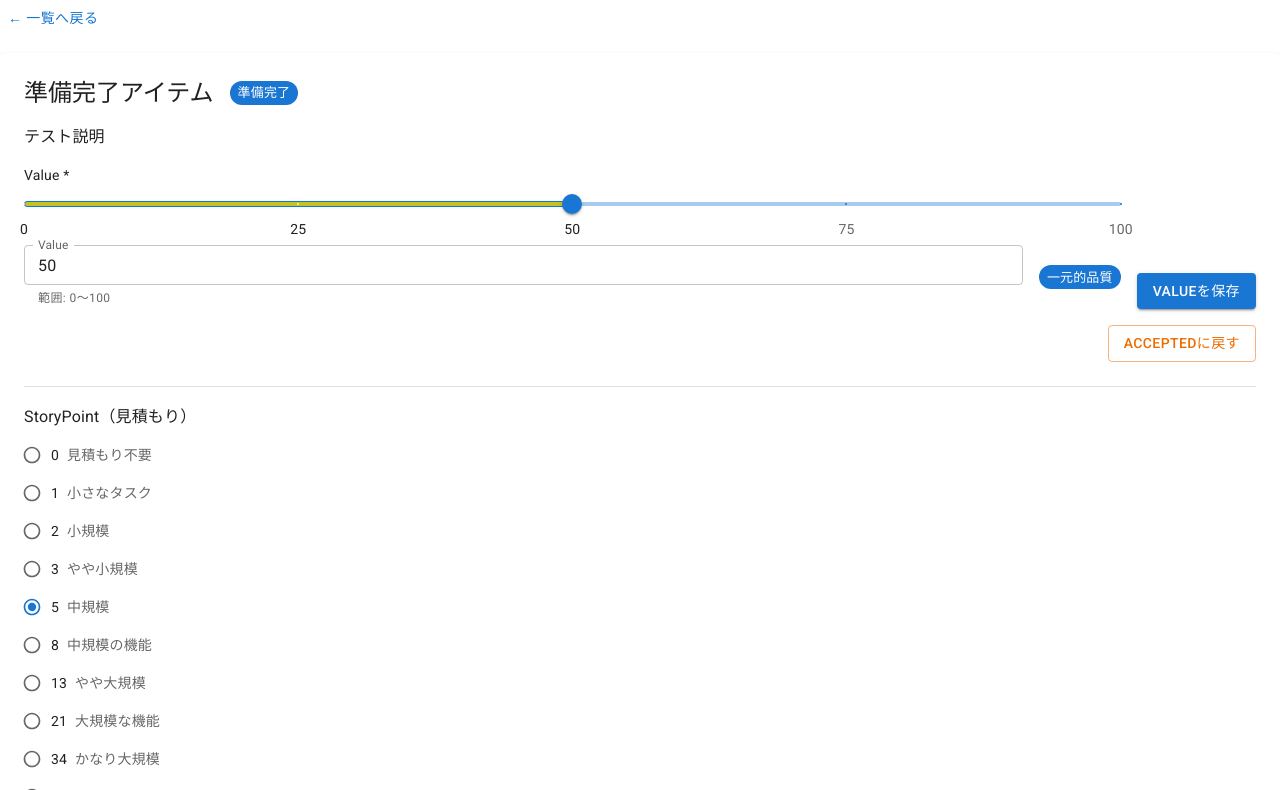
BacklogItemDetail Acceptedに戻す（Issue #522） › 「Acceptedに戻す」ボタンを押したとき、ストーリーポイントがクリアされる旨の確認ダイアログが表示される
Check: the heading "準備完了アイテム" is shown, box x1=24 y1=76 x2=214 y2=108
Click the button "Acceptedに戻す".
click(1182, 344)  # box x1=1108 y1=325 x2=1256 y2=362
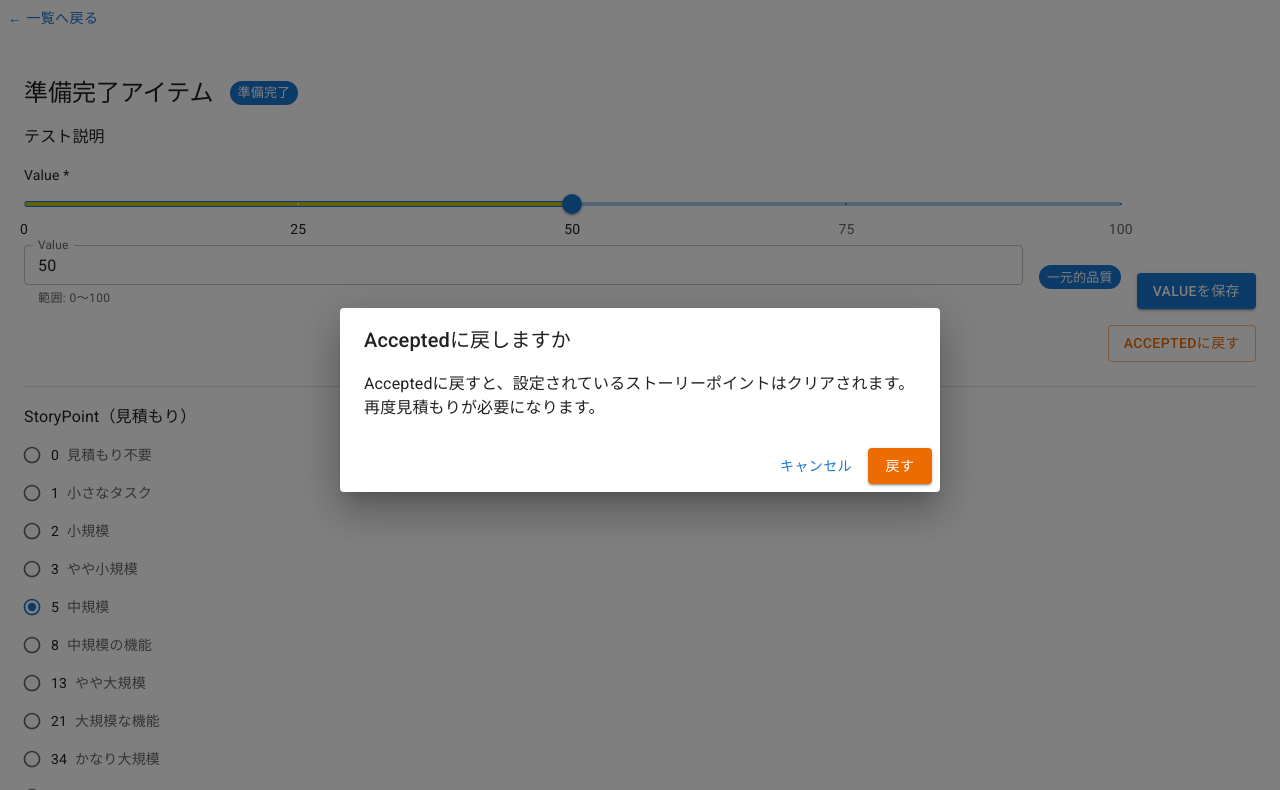
Check: the text "Acceptedに戻すと、設定されているストーリーポイントはクリアされます。再度見積もりが必要になります。" is shown, box x1=364 y1=372 x2=916 y2=420
